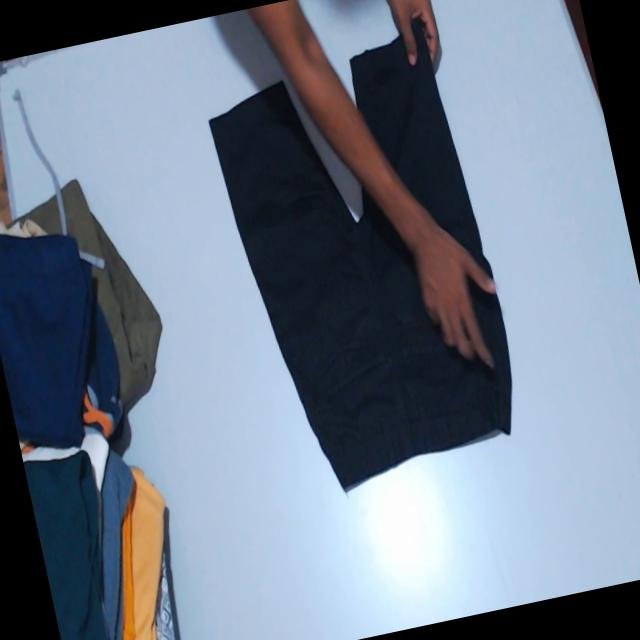new-garment: (209, 81, 511, 487), (350, 22, 491, 275)
